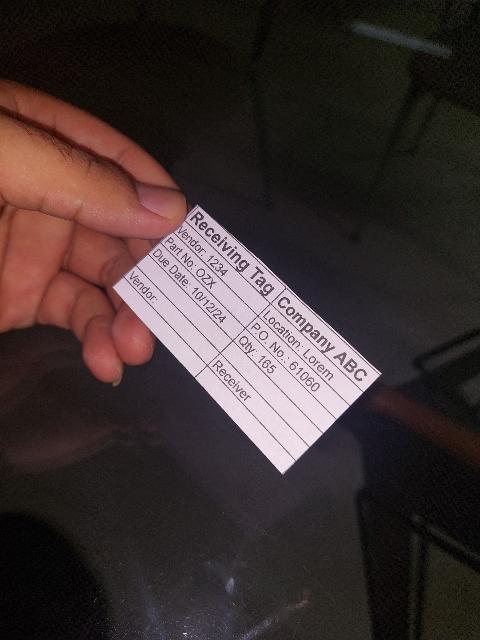PO no: (245, 316, 352, 419)
part no: (160, 233, 258, 329)
qty: (232, 326, 336, 436)
tags: (111, 207, 381, 477)
